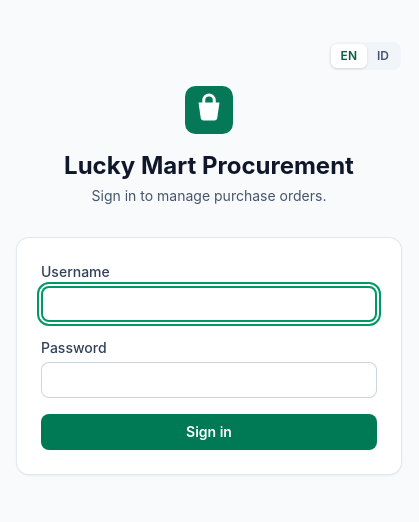
it: login › shows an error for wrong credentials
Type "staff" into the field labelled "Username" at (209, 304), box [41,286,377,322]
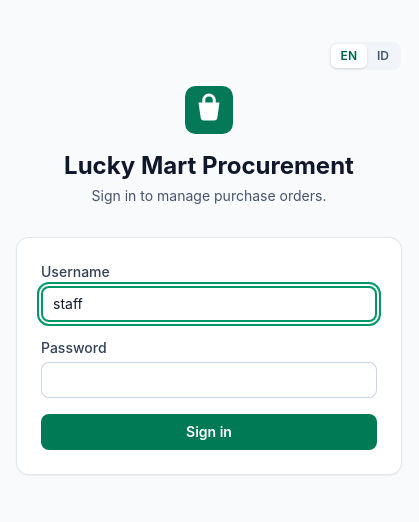
Type "wrong" into the password field labelled "Password" at (209, 380), box [41,362,377,398]
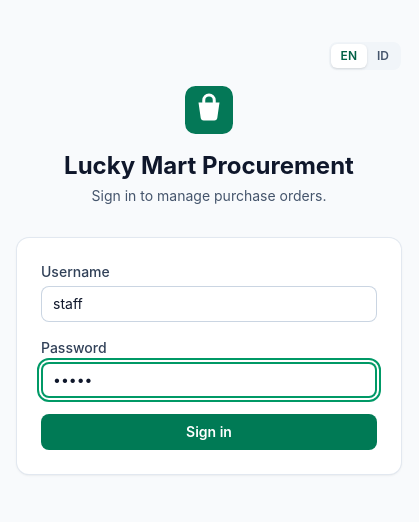
Click the button "Sign in" at (209, 432), box [41,414,377,450]
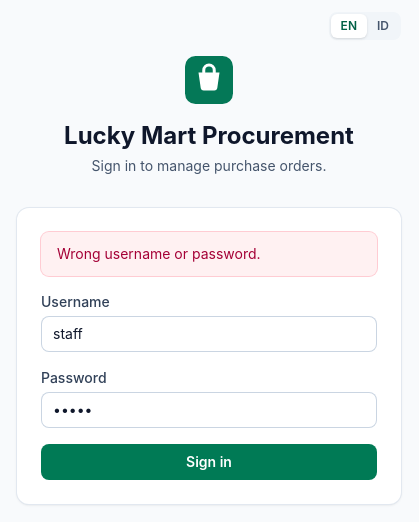
Result: the message reads "Wrong username or password." at [57,245,261,262]
